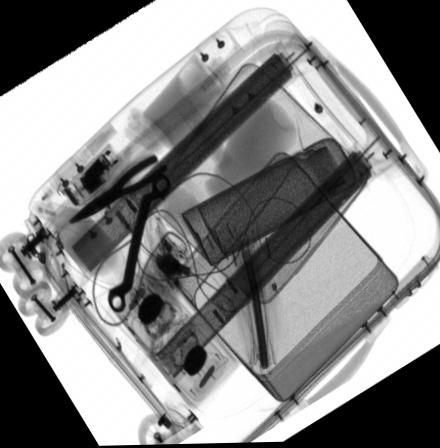Pliers: (69, 154, 166, 223)
Wrench: (105, 174, 171, 314)
